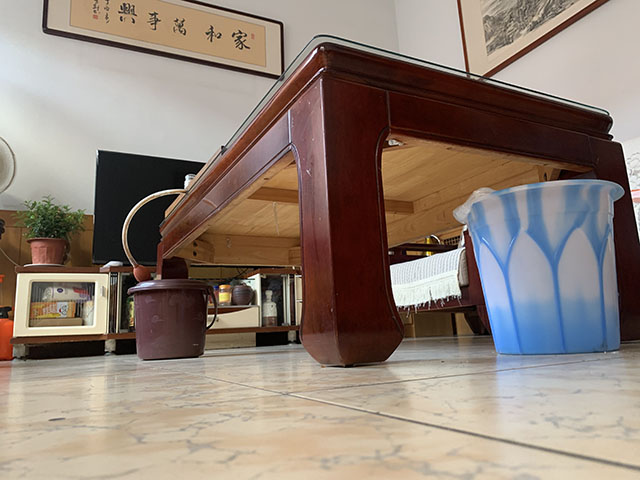cabinet: (9, 263, 302, 361)
table: (155, 34, 640, 370)
trashcan: (451, 178, 627, 357), (127, 279, 219, 361)
